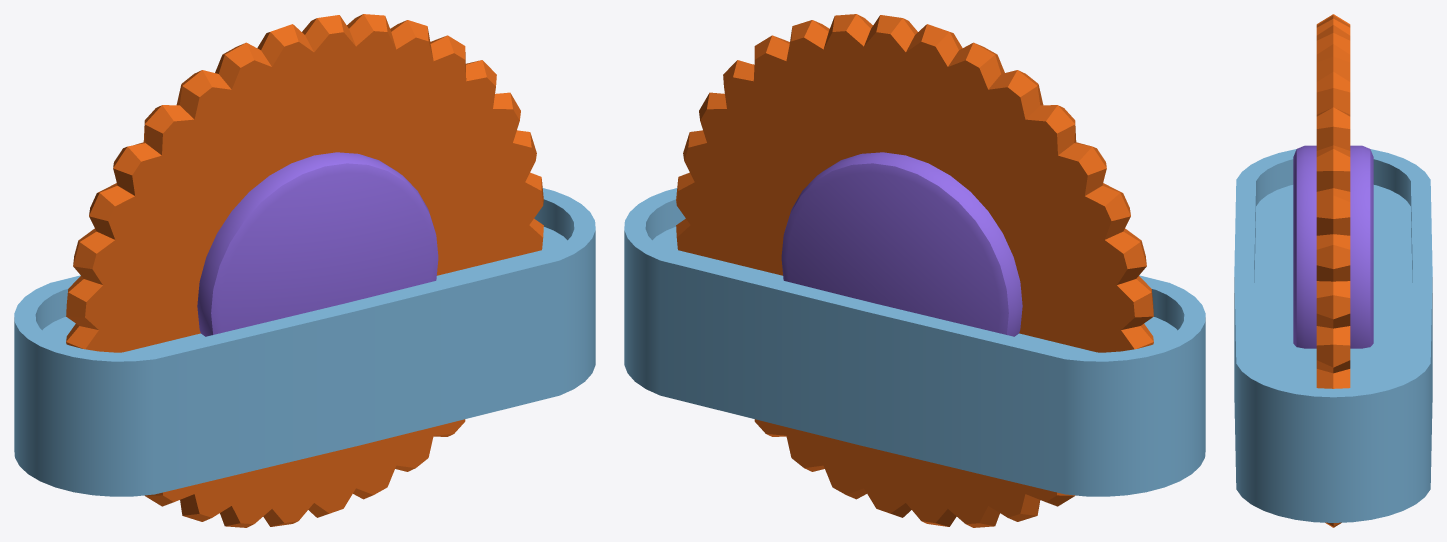
The model's file is stable_saw.fbx.
The picture shows the model from 3 angles, left to right: view 1: azimuth 30°, elevation 25°; view 2: azimuth 150°, elevation 25°; view 3: azimuth 270°, elevation 25°; orthographic projection. The views are drawn at different scales.
Visible parts, largest first — view 1: saw, stable_saw; view 2: saw, stable_saw; view 3: stable_saw, saw.
Boxes of the visible parts, box(x1,y1,x2,y2) form: saw: box(66, 14, 543, 527); stable_saw: box(14, 188, 595, 496); saw: box(676, 14, 1153, 527); stable_saw: box(624, 188, 1205, 496); stable_saw: box(1234, 149, 1432, 522); saw: box(1293, 14, 1373, 527).
Size of the model in its own units: 1.2 by 1.04 by 0.4.
